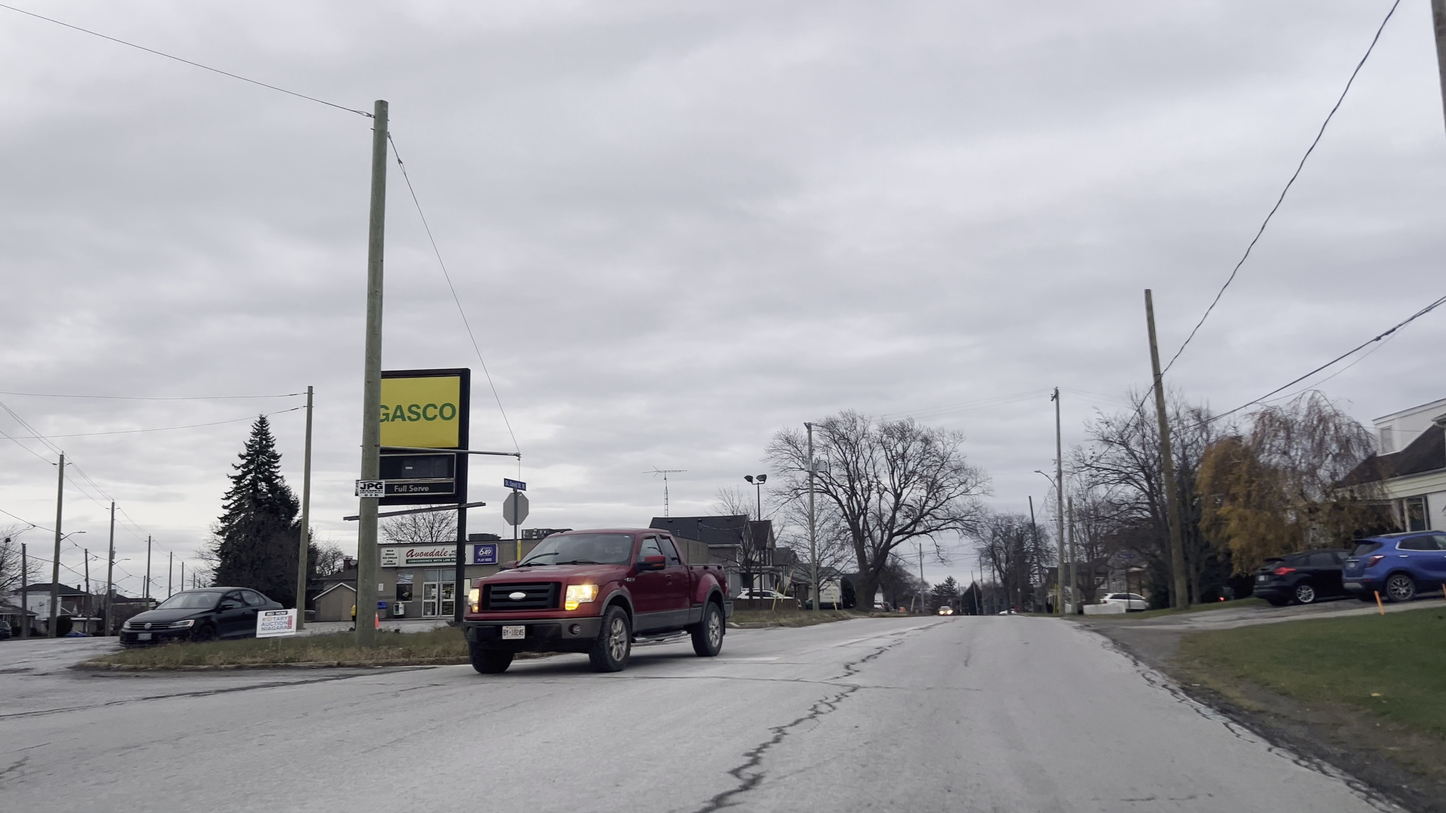cracks: (715, 690, 811, 807), (838, 643, 874, 685)
